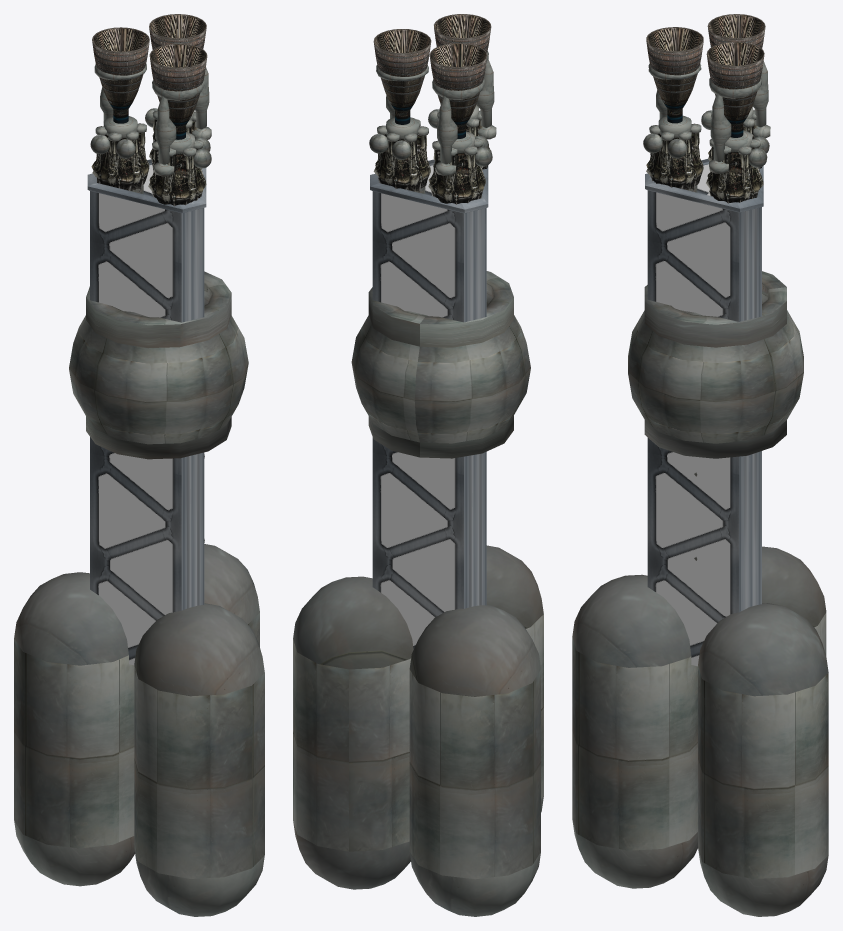
Rendered from RocketEngineAssembly.fbx.
3 views of the same model, side by side, from view 1: azimuth 30°, elevation 25°; view 2: azimuth 150°, elevation 25°; view 3: azimuth 270°, elevation 25° (orthographic).
Visible parts, largest first — view 1: Cylinder, F1 Engine.001; view 2: Cylinder, F1 Engine.001; view 3: Cylinder, F1 Engine.001.
Part boxes in pixels (box(x1,y1,x2,y2)): Cylinder: box(14, 108, 264, 916); F1 Engine.001: box(92, 14, 209, 164); Cylinder: box(293, 105, 543, 916); F1 Engine.001: box(373, 14, 494, 164); Cylinder: box(572, 107, 828, 916); F1 Engine.001: box(646, 14, 768, 161).
Bounding box in the file's own units: 830 × 2909 × 802.
